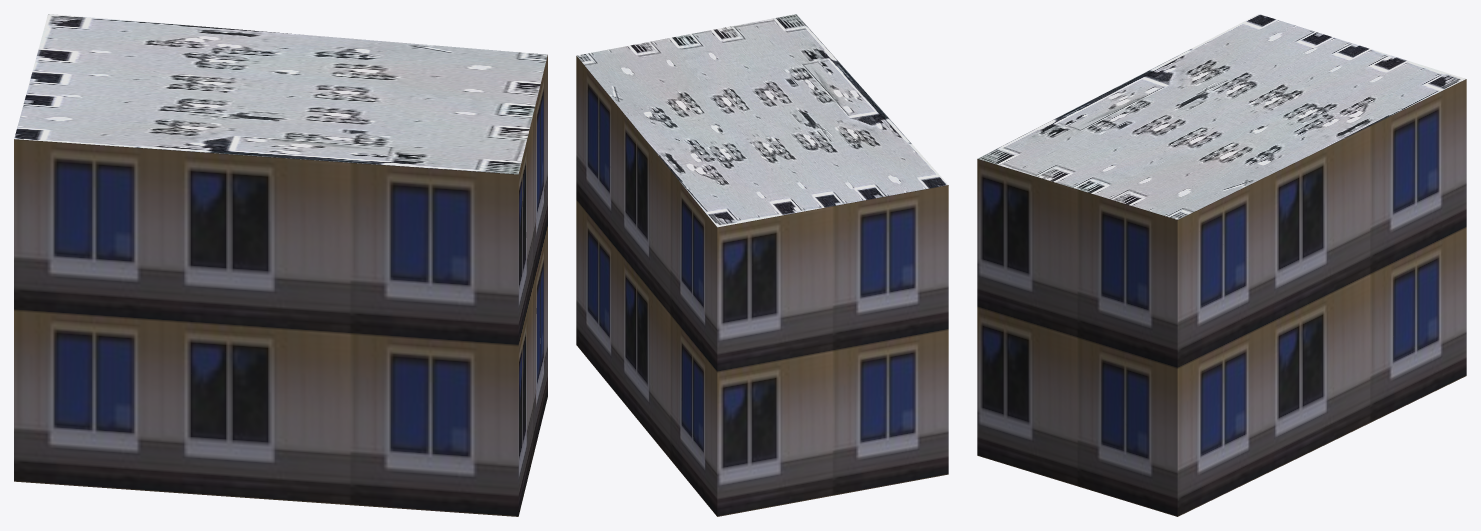
The model's file is ResTex__2967.fbx.
The picture shows the model from 3 angles, left to right: view 1: azimuth 30°, elevation 25°; view 2: azimuth 150°, elevation 25°; view 3: azimuth 270°, elevation 25°; orthographic projection. The views are drawn at different scales.
Parts seen in each view (by area): view 1: CityEngineMaterial_5_m, CityEngineMaterial_4_m; view 2: CityEngineMaterial_5_m, CityEngineMaterial_4_m; view 3: CityEngineMaterial_5_m, CityEngineMaterial_4_m.
Part boxes in pixels (left/top/right/bottom): CityEngineMaterial_5_m: left=14, top=55, right=547, bottom=516; CityEngineMaterial_4_m: left=14, top=14, right=547, bottom=174; CityEngineMaterial_5_m: left=576, top=56, right=948, bottom=516; CityEngineMaterial_4_m: left=577, top=14, right=947, bottom=227; CityEngineMaterial_5_m: left=977, top=79, right=1466, bottom=516; CityEngineMaterial_4_m: left=978, top=14, right=1465, bottom=219.
Bounding box in the file's own units: 8.93 × 6 × 8.96.
Materials: 2 (2 with a texture image).
